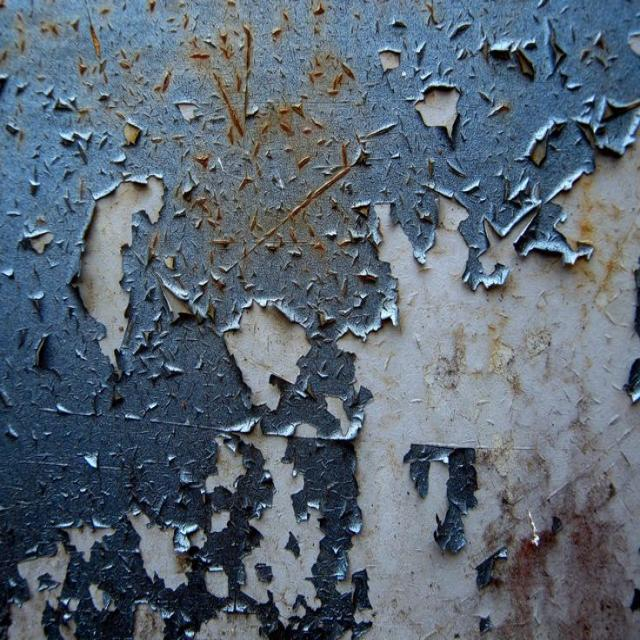Paint peeling: (4, 29, 639, 639), (9, 149, 204, 385)
